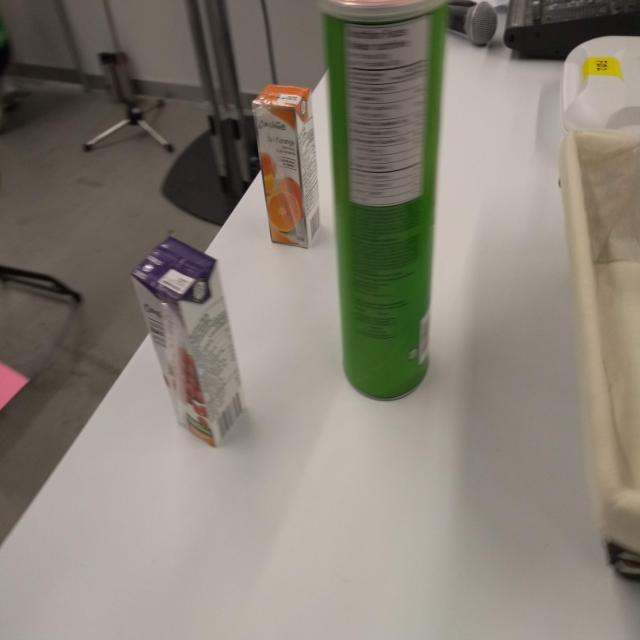grape_juice: (126, 231, 250, 451)
orange_juice: (248, 80, 324, 253)
pringles: (315, 1, 450, 403)
